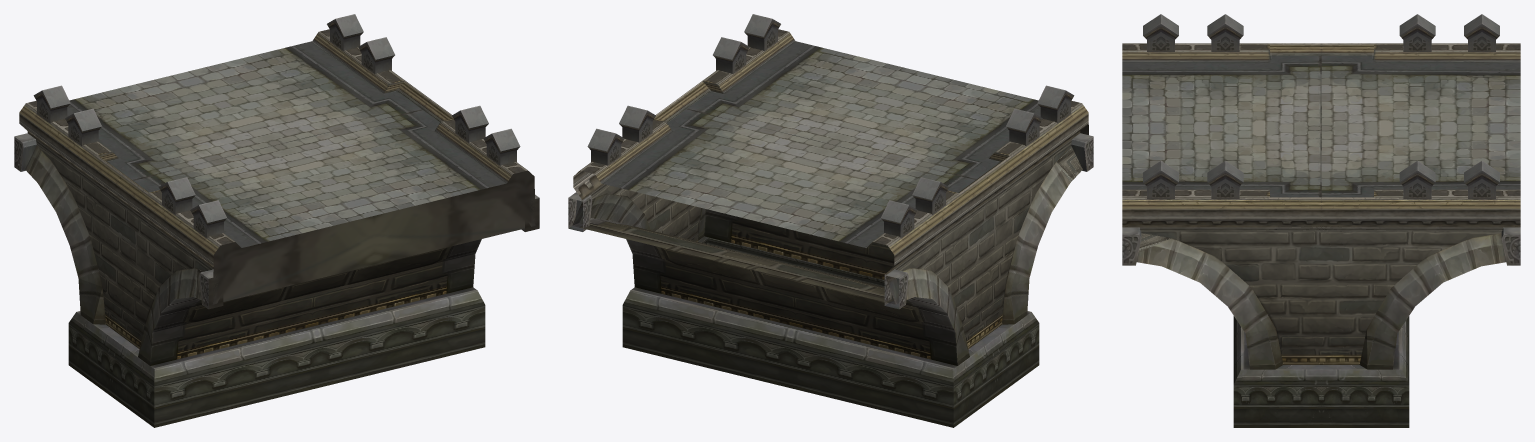
Rendered from new_sh_bridgeout_b.FBX.
3 renders of one model, left to right at view 1: azimuth 30°, elevation 25°; view 2: azimuth 150°, elevation 25°; view 3: azimuth 270°, elevation 25°, orthographic. The views are drawn at different scales.
Parts seen in each view (by area): view 1: new_sh_bridgeout_b; view 2: new_sh_bridgeout_b; view 3: new_sh_bridgeout_b.
Part boxes in pixels (x1=…): new_sh_bridgeout_b: x1=14, y1=14, x2=539, y2=427; new_sh_bridgeout_b: x1=568, y1=14, x2=1093, y2=427; new_sh_bridgeout_b: x1=1122, y1=14, x2=1520, y2=427.
Bounding box in the file's own units: 1265 × 901 × 1286.
1 material, 1 textured.
